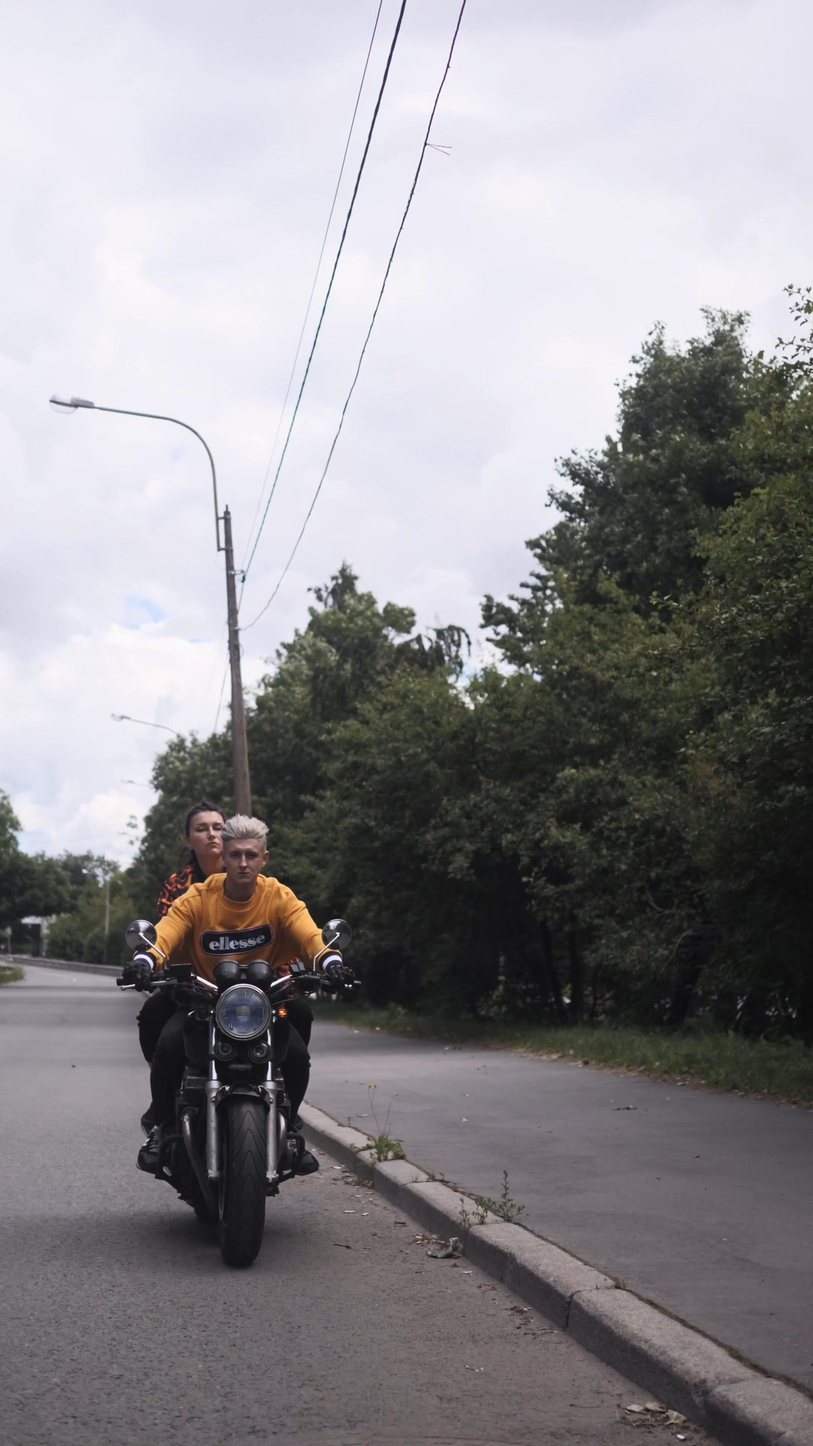driver: (115, 797, 364, 1267)
no-helmet: (219, 812, 270, 884), (183, 799, 225, 856)
